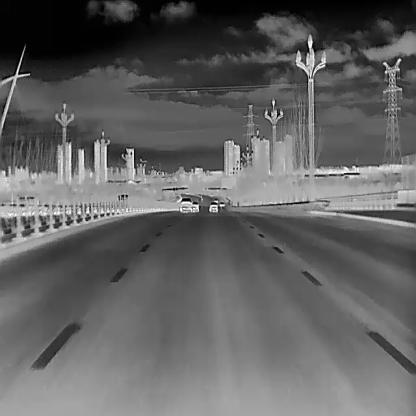car: (179, 197, 191, 212), (209, 201, 217, 212), (190, 200, 198, 211), (218, 199, 224, 206)
